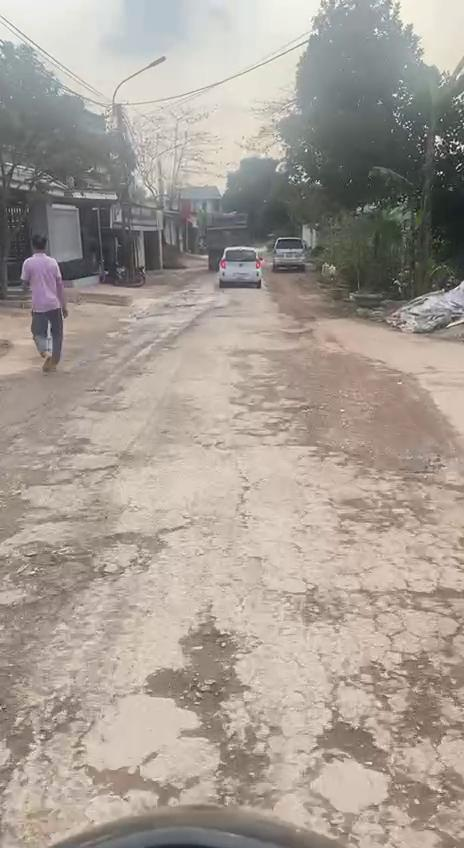pothole: (144, 611, 278, 809), (378, 642, 464, 747), (0, 682, 81, 792), (377, 765, 464, 848), (78, 763, 187, 813), (309, 712, 394, 775), (88, 525, 170, 581), (399, 582, 464, 626)
